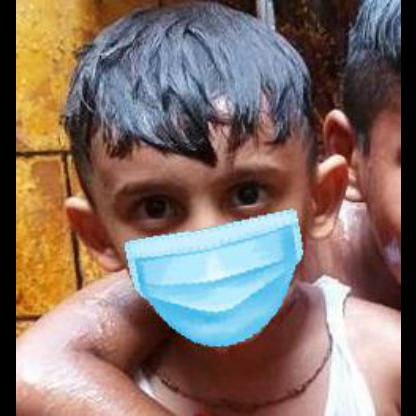Surgical Mask: (110, 168, 306, 344)
